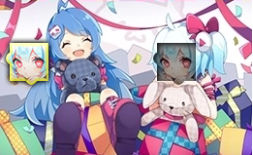gap: (153, 42, 196, 81)
